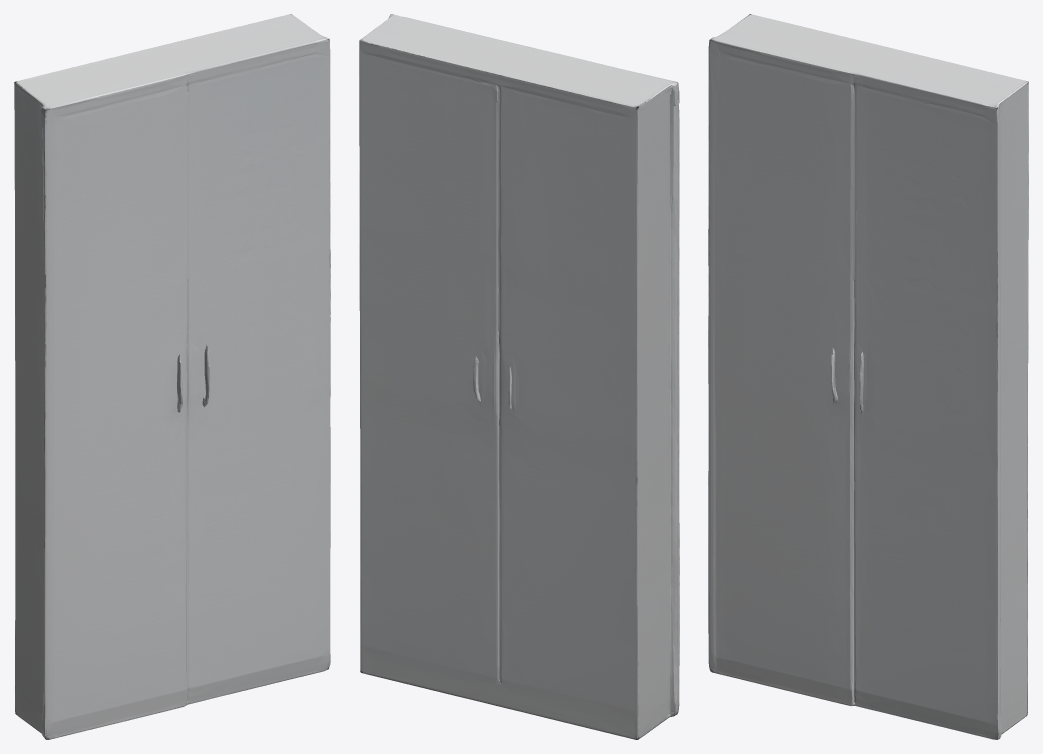
3 renders of one model, left to right at view 1: azimuth 30°, elevation 25°; view 2: azimuth 150°, elevation 25°; view 3: azimuth 330°, elevation 25°, orthographic.
Visible parts, largest first — view 1: world; view 2: world; view 3: world.
Boxes of the visible parts, x1,y1,x2,y2 form: world: [14, 14, 330, 739]; world: [359, 14, 679, 739]; world: [708, 14, 1028, 739].
Size of the model in its own units: 0.4767 by 1 by 0.1377.
1 material, 1 textured.
